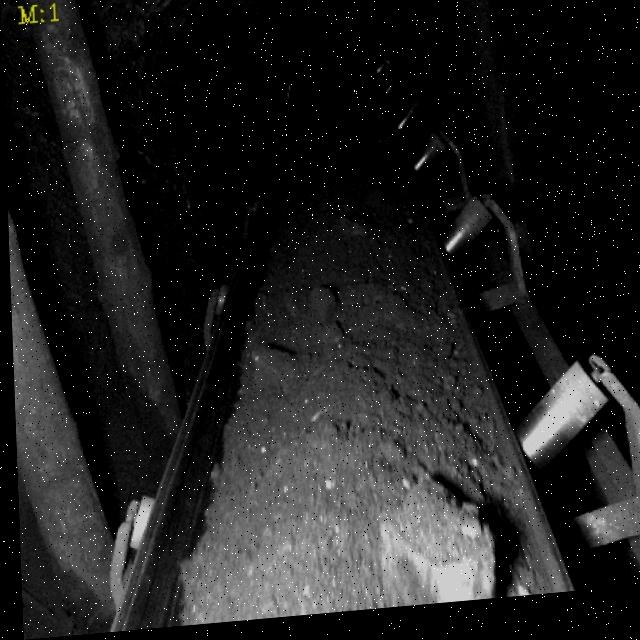large_sized_coal: (373, 480, 493, 615)
